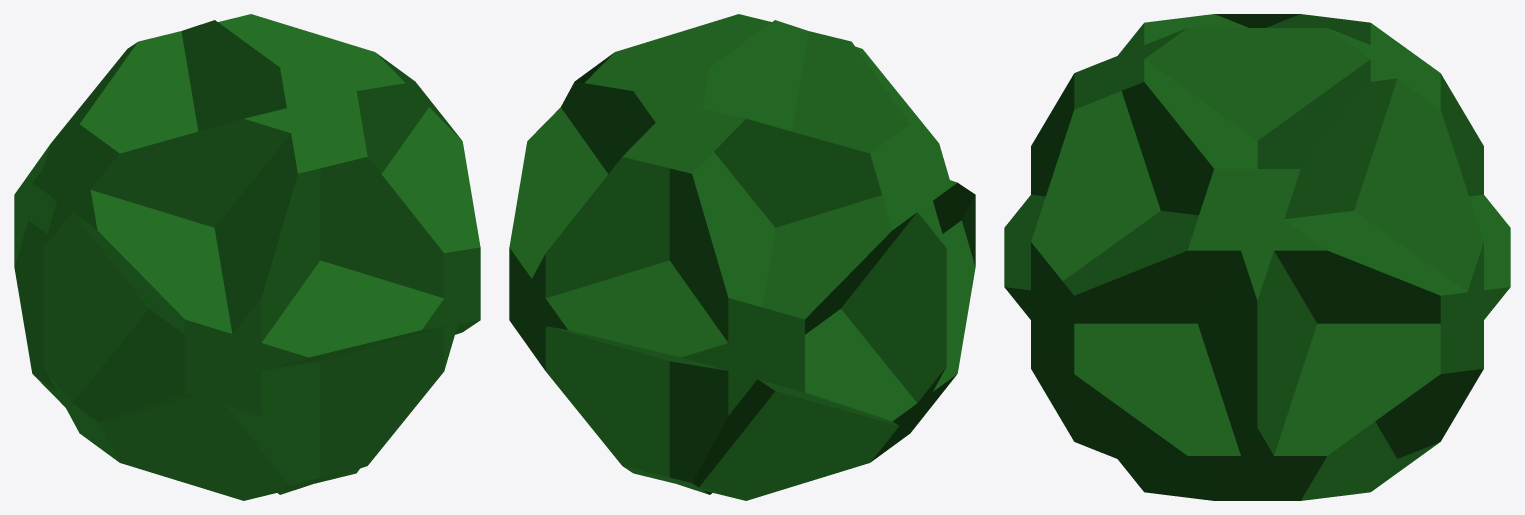
File: TruncatedGreatDodecahedronL.obj
3 renders of one model, left to right at view 1: azimuth 30°, elevation 25°; view 2: azimuth 150°, elevation 25°; view 3: azimuth 270°, elevation 25°, orthographic. The views are drawn at different scales.
Bounding box in the file's own units: 3.62 × 3.62 × 3.62.
